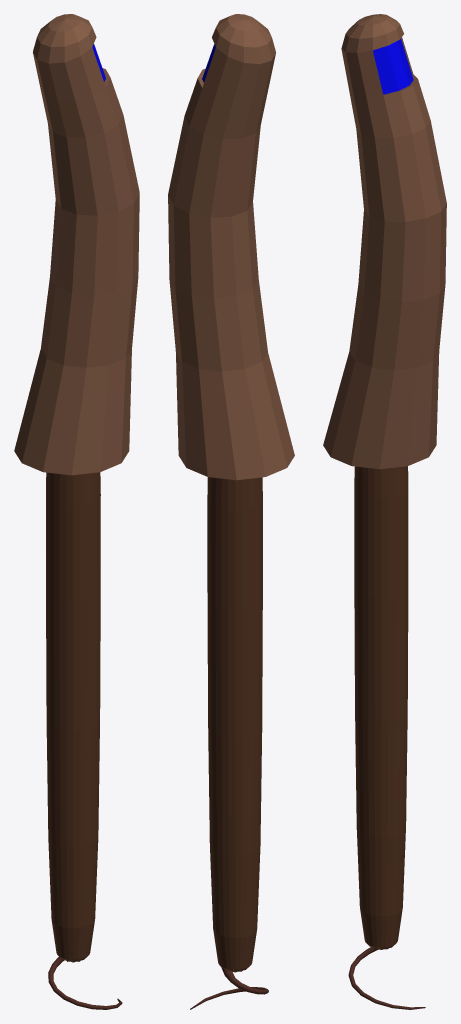
File: Wand 49.glb
3 views of the same model, side by side, from view 1: azimuth 30°, elevation 25°; view 2: azimuth 150°, elevation 25°; view 3: azimuth 330°, elevation 25° (orthographic). The views are drawn at different scales.
Parts seen in each view (by area): view 1: GeneratedWand; view 2: GeneratedWand; view 3: GeneratedWand.
Boxes of the visible parts, x1,y1,x2,y2 form: GeneratedWand: [14, 14, 139, 1009]; GeneratedWand: [168, 14, 294, 1009]; GeneratedWand: [323, 14, 446, 1009].
Bounding box in the file's own units: 0.0644 × 0.5441 × 0.0572.
